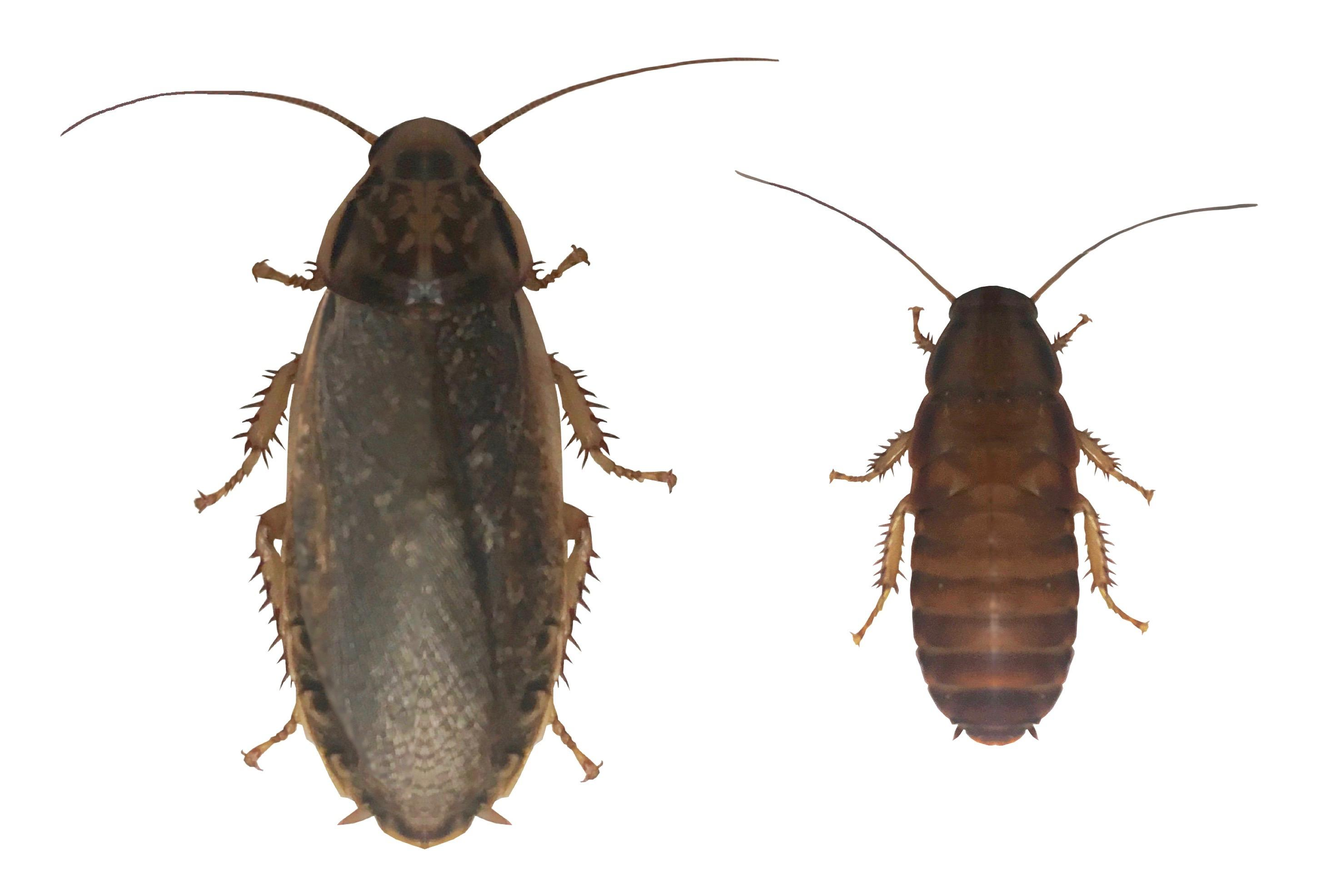cockroach: (244, 93, 602, 853), (888, 266, 1104, 752)
